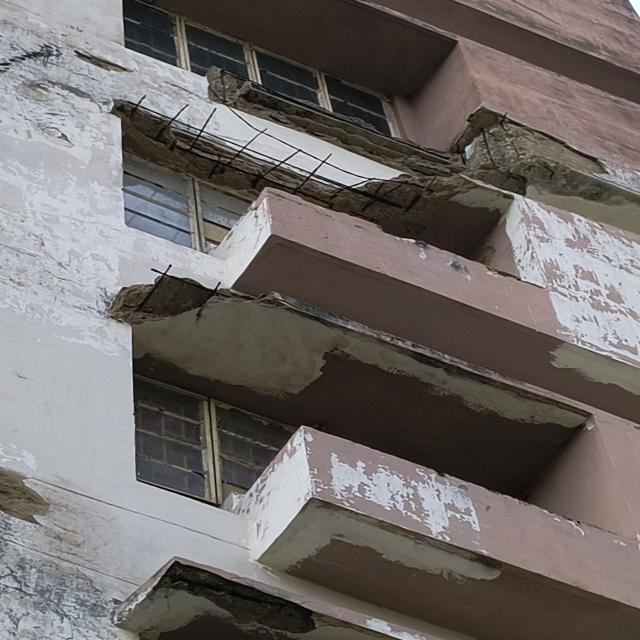spalling: (109, 201, 586, 499), (115, 69, 640, 279), (160, 565, 311, 630)
